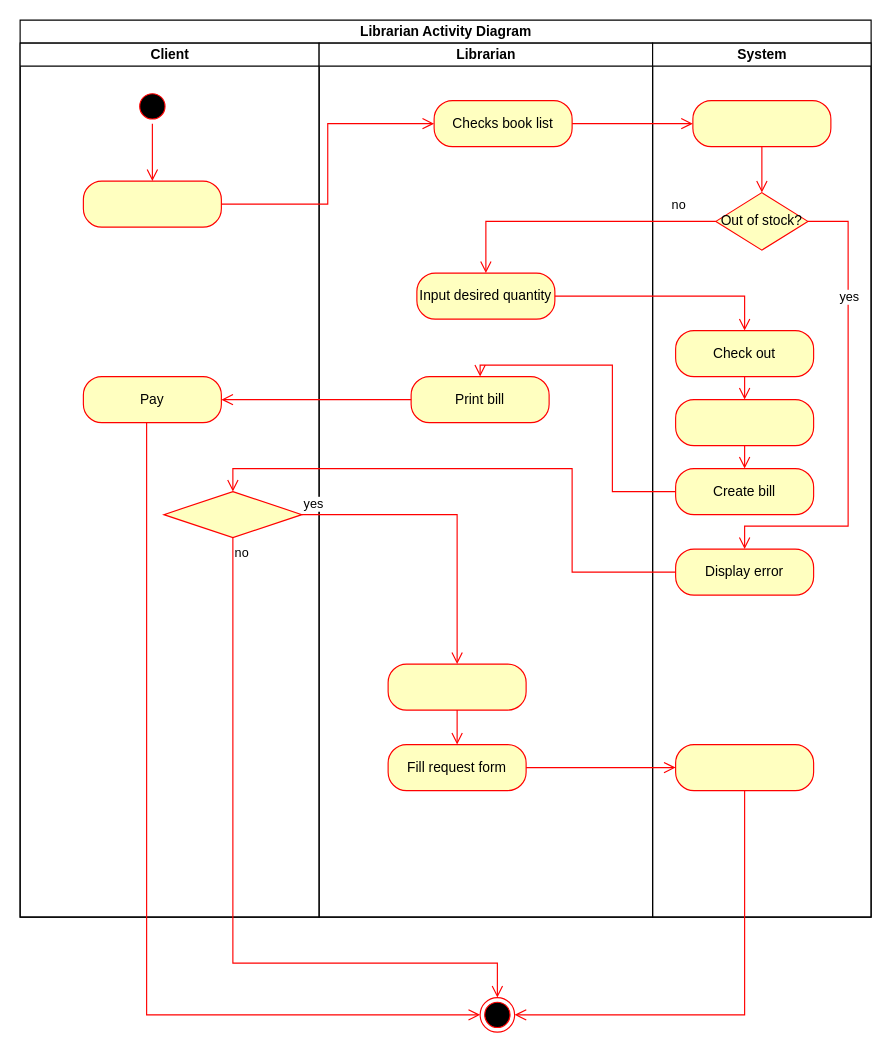
Image size: 891x1052. Some labels were removed from this diagram. The centre of each missing label's shape, as x and y in pixels:
Fetch book database: pixel 761 123
Make book request: pixel 456 686
Make request?: pixel 232 514
Update book database: pixel 744 422
Update book request database: pixel 744 767
Wants book: pixel 151 203
